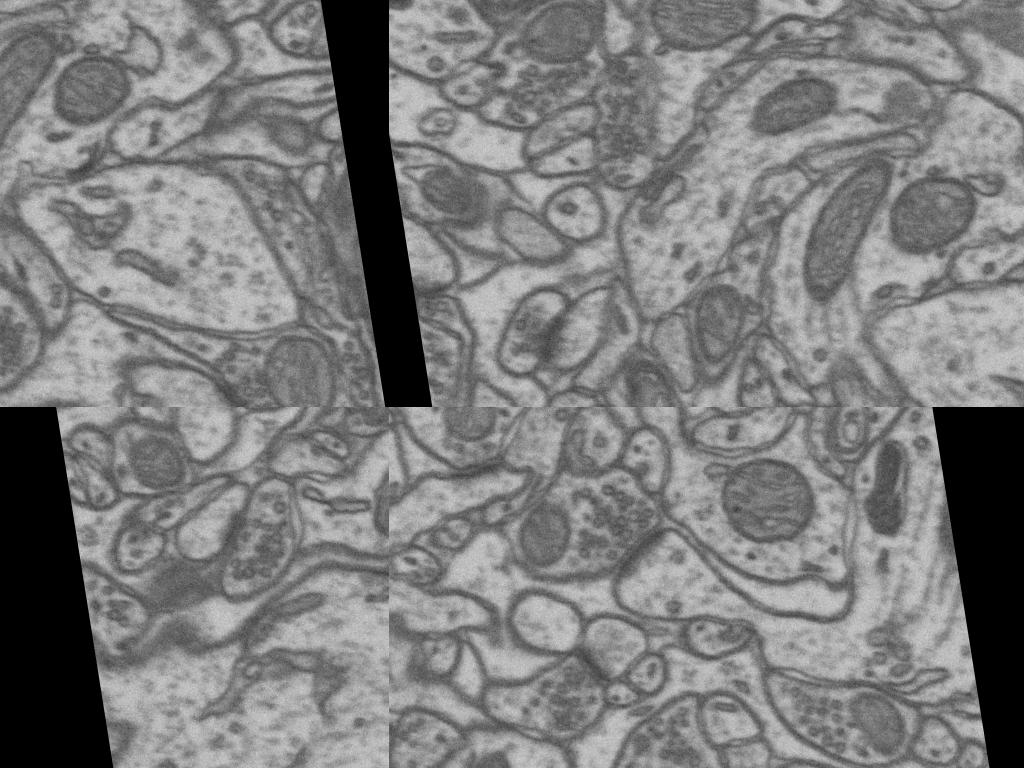mitochondria: (778, 150, 915, 310), (704, 438, 826, 558), (878, 162, 988, 268), (0, 20, 75, 166), (40, 40, 142, 137), (741, 63, 846, 144), (633, 0, 769, 61), (678, 272, 756, 378), (253, 323, 347, 407), (836, 678, 922, 768), (510, 0, 611, 72), (502, 487, 583, 574), (127, 423, 201, 502), (412, 152, 478, 225), (611, 346, 688, 407), (347, 451, 389, 558), (140, 556, 206, 620), (430, 407, 508, 459), (310, 160, 356, 230), (457, 0, 576, 27), (455, 740, 523, 768), (345, 407, 389, 445)
